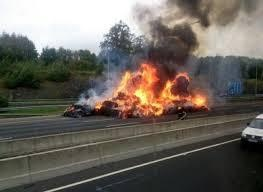fire: (94, 61, 211, 117)
